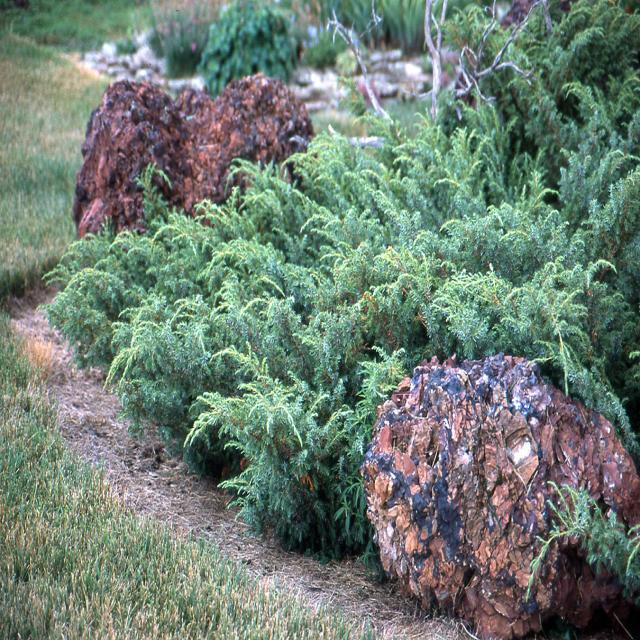Juniperus communis: (56, 127, 607, 539)
